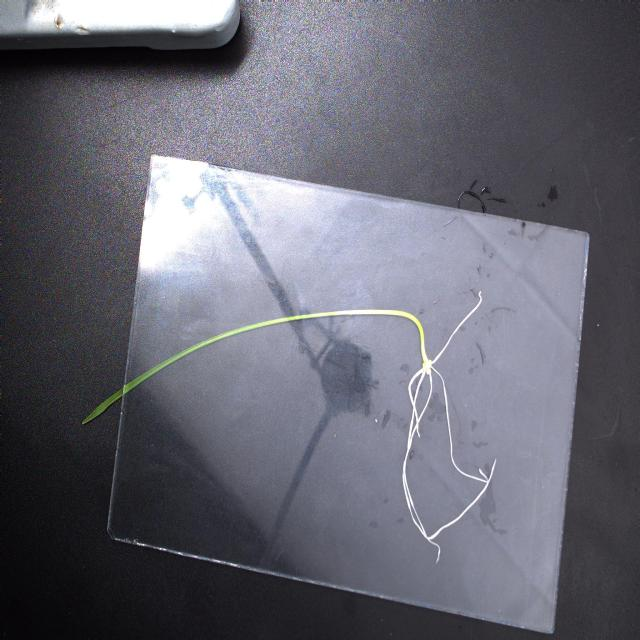leaf: (82, 308, 337, 427)
root: (400, 287, 499, 563)
stem: (333, 309, 428, 364)
